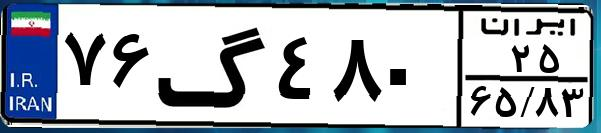0: (385, 28, 445, 110)
2: (508, 27, 537, 80)
3: (560, 70, 590, 125)
4: (270, 28, 330, 110)
5: (537, 27, 568, 80), (495, 70, 520, 125)
6: (110, 28, 156, 98), (470, 70, 495, 125)
7: (57, 26, 110, 100)
8: (330, 28, 385, 110), (535, 70, 560, 125)
گ: (156, 12, 270, 120)
